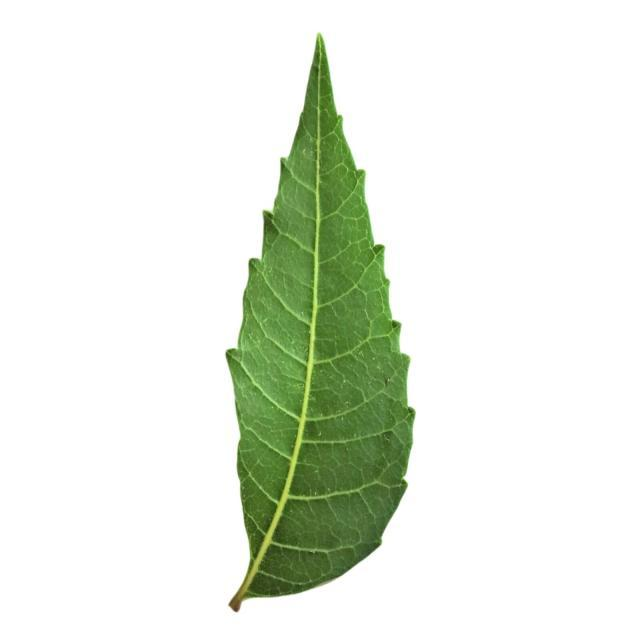Wet: (191, 17, 430, 626)
